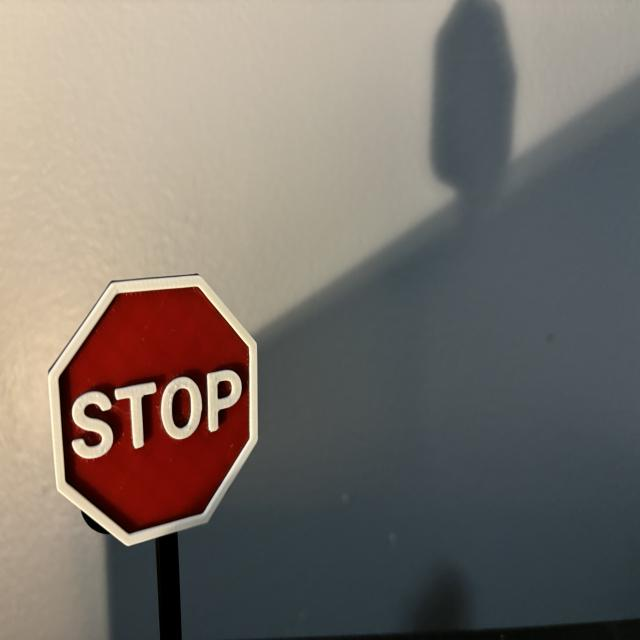sign_stop: (49, 278, 258, 547)
